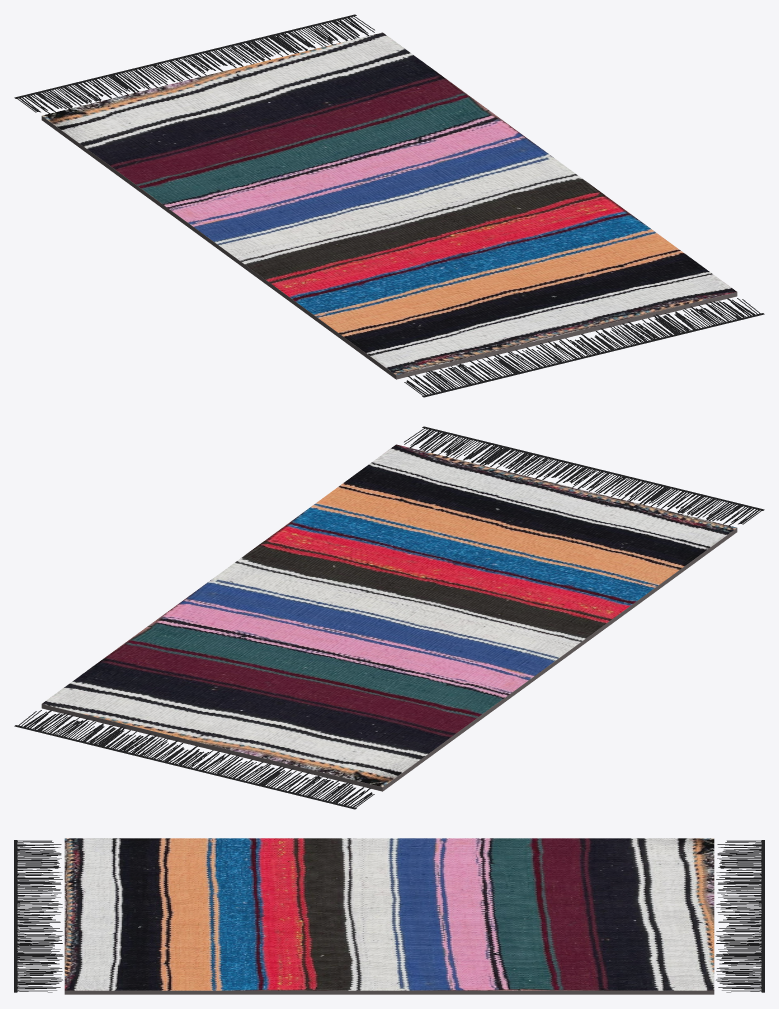
The picture shows the model from 3 angles, top to bottom: view 1: azimuth 30°, elevation 25°; view 2: azimuth 150°, elevation 25°; view 3: azimuth 270°, elevation 25°; orthographic projection. The views are drawn at different scales.
Visible parts, largest first — view 1: rug, fringeB, fringeA, side; view 2: rug, fringeA, fringeB, side; view 3: rug, fringeA, fringeB, side.
Boxes of the visible parts, <box> form: rug: <box>42,32,736,375</box>; fringeB: <box>404,298,764,397</box>; fringeA: <box>14,14,374,113</box>; side: <box>41,116,737,379</box>; rug: <box>42,444,736,787</box>; fringeA: <box>14,710,374,809</box>; fringeB: <box>404,426,764,525</box>; side: <box>41,528,737,791</box>; rug: <box>64,838,714,990</box>; fringeA: <box>715,840,764,992</box>; fringeB: <box>14,840,63,992</box>; side: <box>64,990,714,994</box>.
Size of what is drawn, in the model's own units: 0.5 by 0.00614 by 1.04.
Materials: 2 (2 with a texture image).
